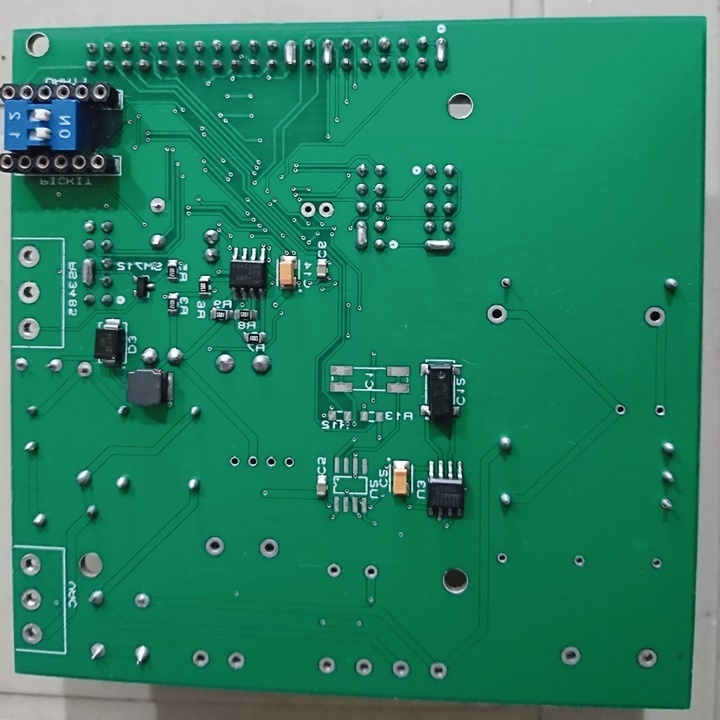F: (16, 242, 46, 271), (633, 643, 659, 674), (19, 621, 47, 649), (18, 587, 46, 614), (643, 303, 669, 332), (18, 552, 44, 581), (16, 279, 43, 306), (18, 315, 44, 343), (201, 535, 227, 560), (482, 302, 509, 326), (256, 537, 284, 560), (559, 645, 583, 671), (84, 640, 108, 665), (389, 658, 413, 682), (190, 648, 214, 672), (226, 649, 249, 673), (44, 354, 67, 378), (147, 195, 170, 218), (427, 661, 450, 683), (316, 656, 339, 678), (130, 593, 153, 615), (75, 358, 95, 383), (316, 199, 336, 223), (352, 657, 374, 678), (324, 562, 346, 583), (14, 356, 33, 380), (298, 198, 317, 220), (657, 494, 679, 513), (498, 275, 514, 296), (612, 402, 630, 420), (363, 566, 380, 583), (245, 455, 261, 471), (228, 454, 244, 470), (572, 554, 587, 569), (649, 556, 664, 571), (281, 455, 296, 470), (653, 403, 667, 418), (265, 456, 279, 471), (494, 552, 510, 565)
P: (421, 236, 457, 256), (353, 217, 371, 255), (282, 36, 299, 75), (320, 35, 337, 72), (79, 254, 96, 289), (433, 35, 449, 72)
